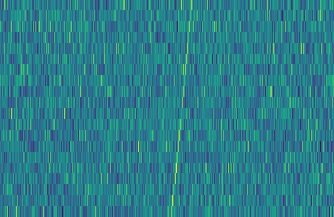signal: (167, 0, 196, 217)
